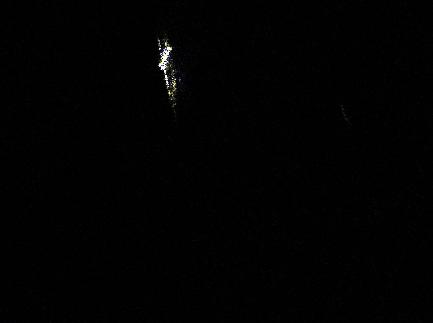ship: (158, 42, 174, 72)
